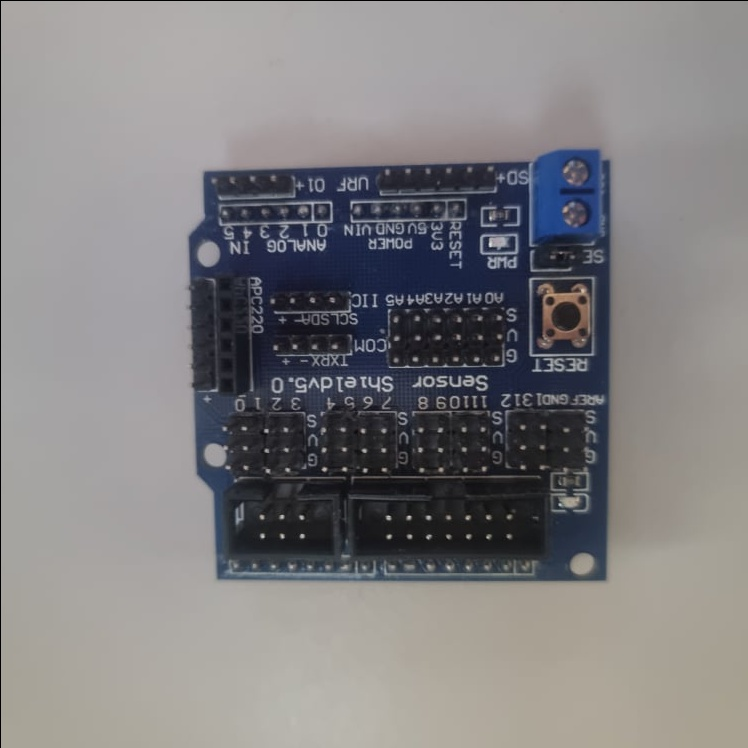5V EXPANSION: (183, 147, 610, 582)
